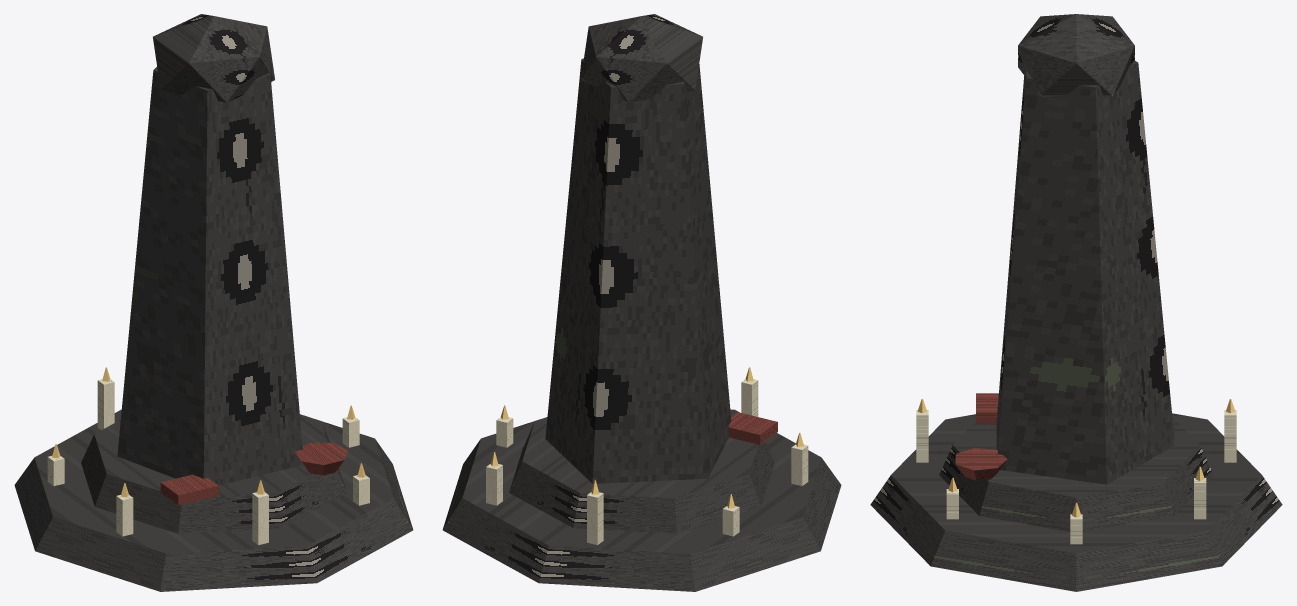
The model's file is shrine.glb.
The picture shows the model from 3 angles, left to right: view 1: azimuth 30°, elevation 25°; view 2: azimuth 150°, elevation 25°; view 3: azimuth 270°, elevation 25°; orthographic projection.
Parts seen in each view (by area): view 1: shrine; view 2: shrine; view 3: shrine.
Boxes of the visible parts, x1=… form: shrine: x1=14, y1=14, x2=413, y2=591; shrine: x1=442, y1=14, x2=841, y2=591; shrine: x1=870, y1=14, x2=1282, y2=591.
Bounding box in the file's own units: 3 × 3.94 × 3.
Materials: 1 (1 with a texture image).
